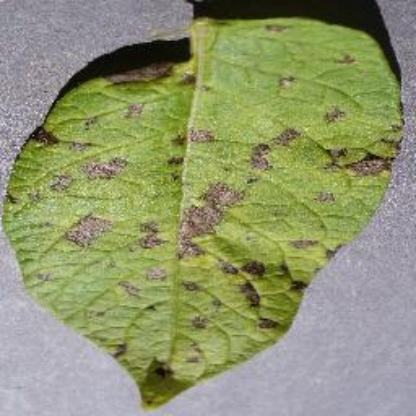Early-Blight: (2, 8, 404, 408)
